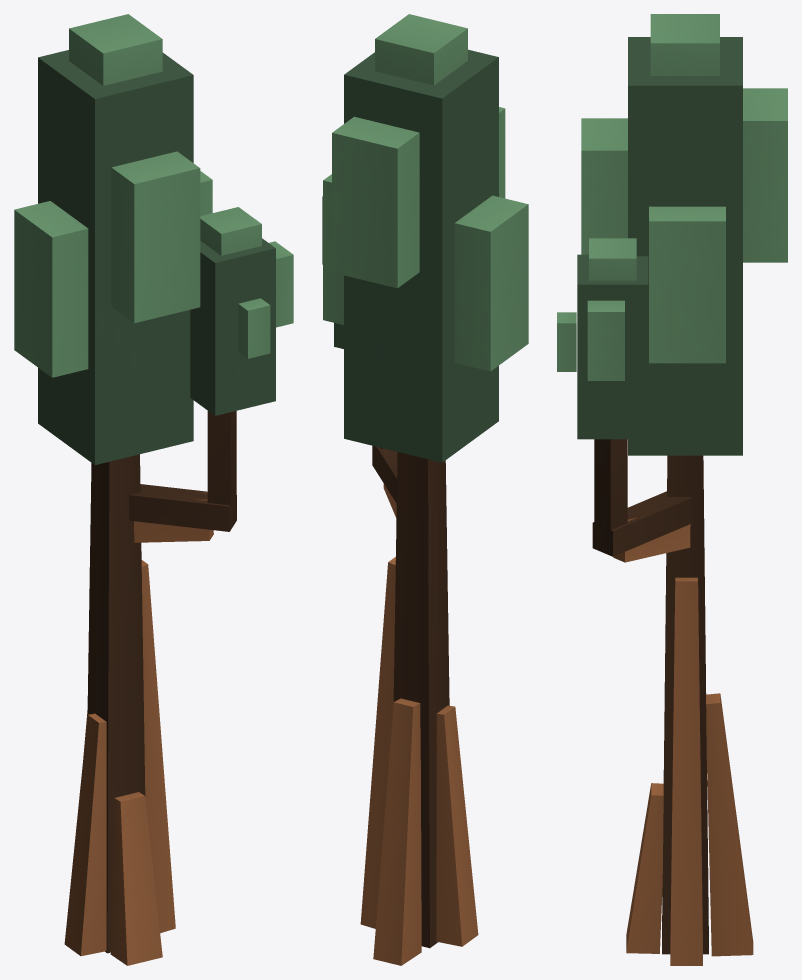
The model's file is Tree_1.fbx.
The picture shows the model from 3 angles, left to right: view 1: azimuth 30°, elevation 25°; view 2: azimuth 150°, elevation 25°; view 3: azimuth 270°, elevation 25°; orthographic projection.
Visible parts, largest first — view 1: Tree_1; view 2: Tree_1; view 3: Tree_1.
Part boxes in pixels (<box>): Tree_1: <box>14,14,293,965</box>; Tree_1: <box>322,14,528,965</box>; Tree_1: <box>557,14,787,965</box>.
Size of the model in its own units: 251 by 1106 by 273.
